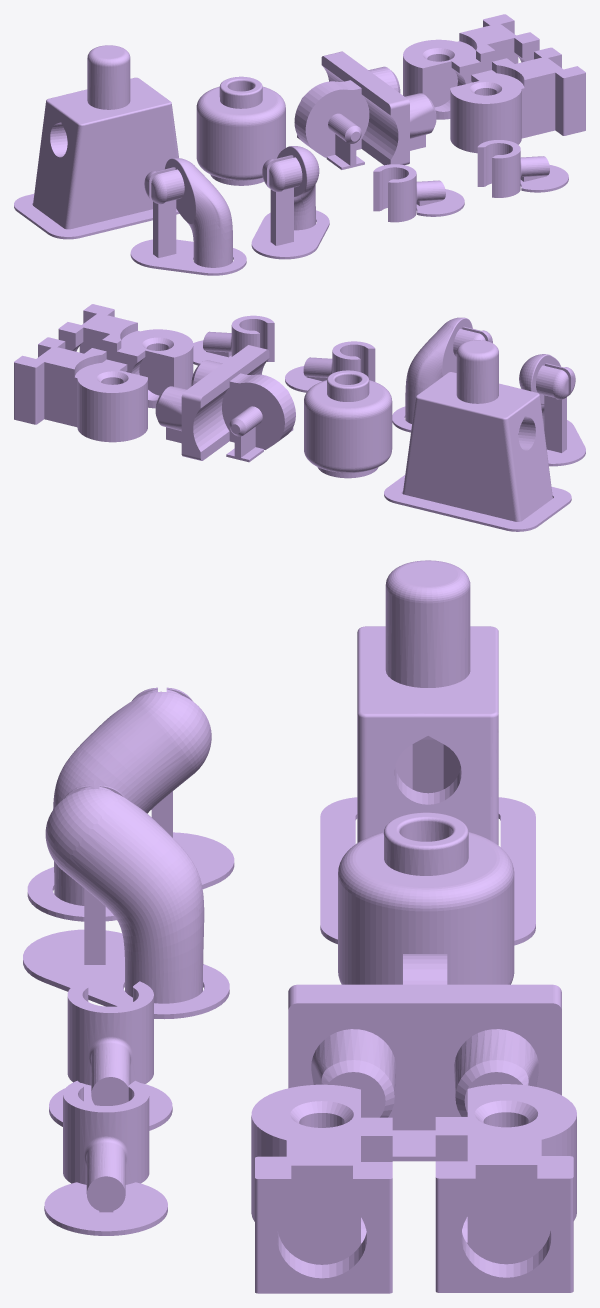
The model's file is legopurple.glb.
3 renders of one model, top to bottom at view 1: azimuth 30°, elevation 25°; view 2: azimuth 150°, elevation 25°; view 3: azimuth 270°, elevation 25°, orthographic. The views are drawn at different scales.
Bounding box in the file's own units: 65.93 × 18.8 × 31.38.
